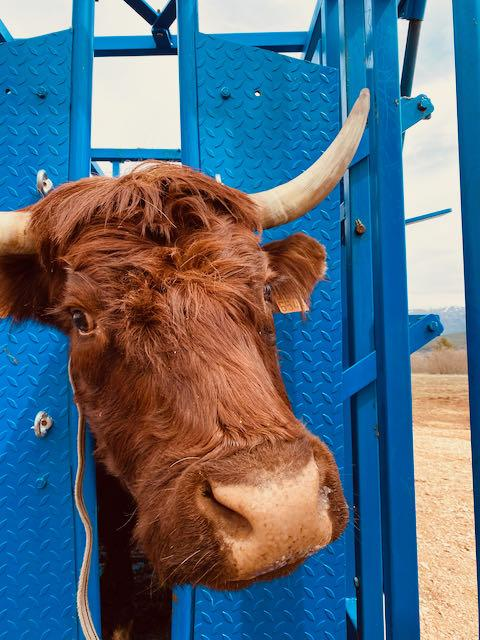muzzles: (161, 452, 358, 580)
